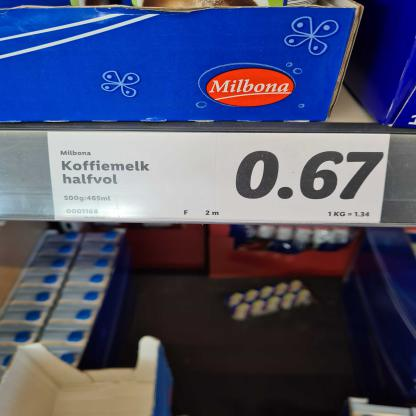prtg: (49, 133, 391, 225)
